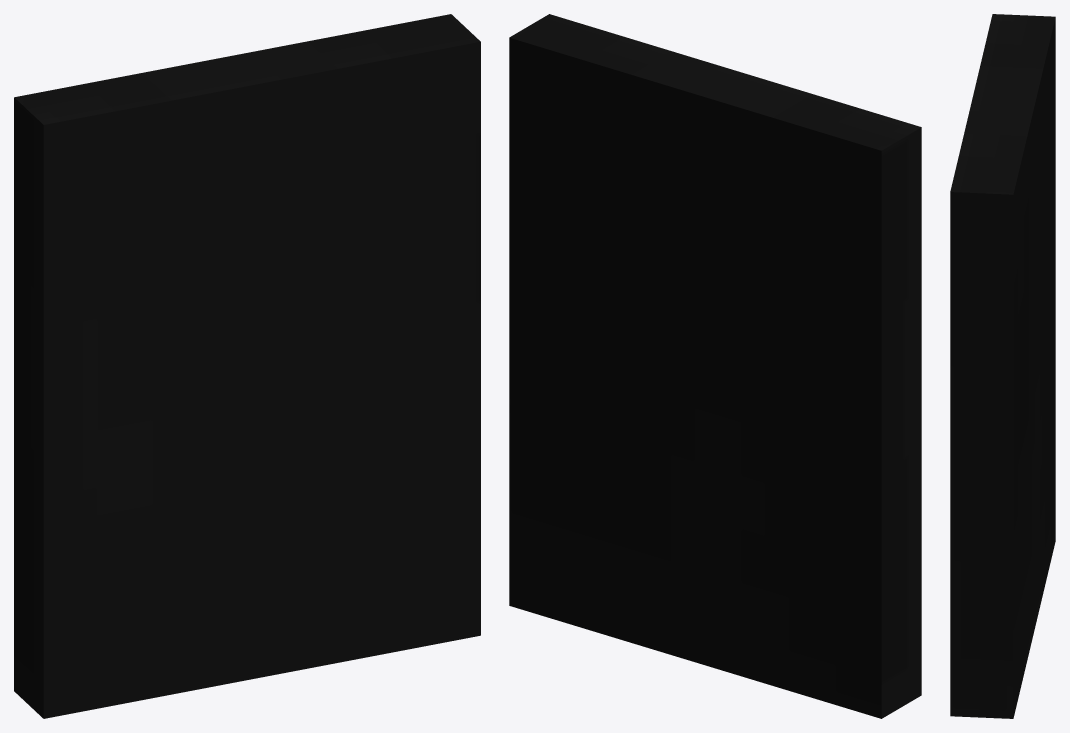
The model's file is seat__seat_hinge_plate.glb.
3 views of the same model, side by side, from view 1: azimuth 30°, elevation 25°; view 2: azimuth 150°, elevation 25°; view 3: azimuth 270°, elevation 25° (orthographic). The views are drawn at different scales.
Parts seen in each view (by area): view 1: world; view 2: world; view 3: world.
Boxes of the visible parts, x1,y1,x2,y2 form: world: [14, 14, 480, 718]; world: [509, 14, 921, 718]; world: [950, 14, 1055, 718].
Bounding box in the file's own units: 0.1212 × 0.164 × 0.0299.
1 material, 1 textured.
